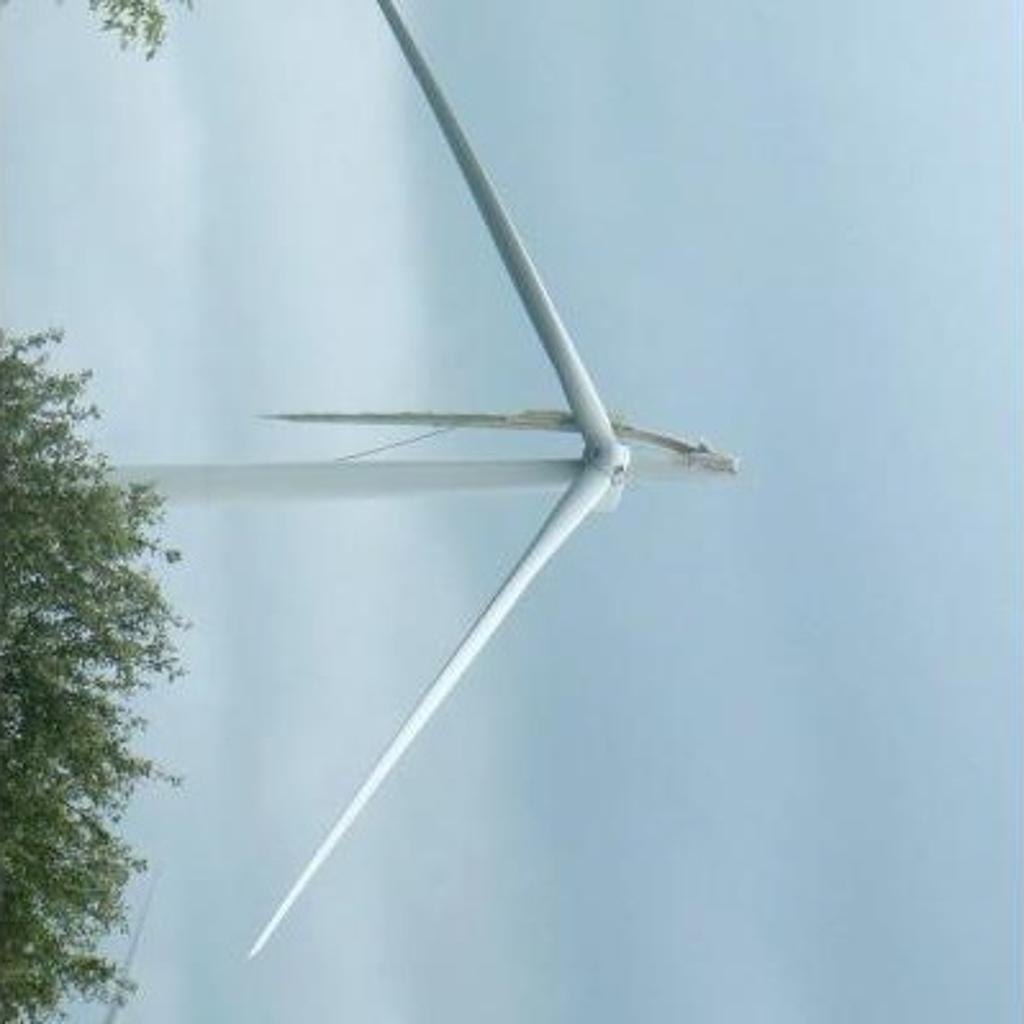crack: (247, 395, 750, 481)
